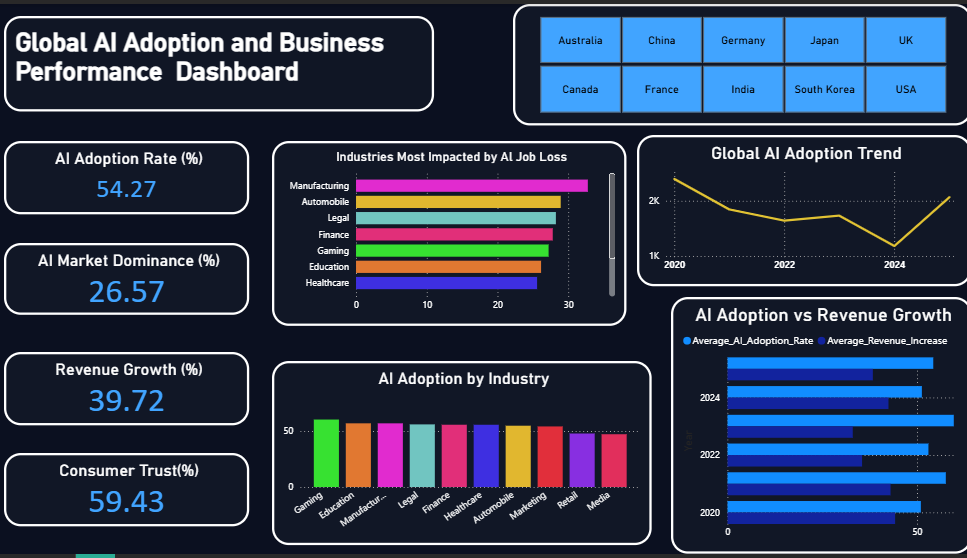

This screenshot's page, from the dashboard's own definition file:
{"tool":"powerbi","page":{"name":"Page 1","canvas":[1280,720],"ordinal":0},"visuals":[{"type":"card","title":" AI Adoption Rate (%)","fields":{"Values":["Meaures.Average_AI_Adoption_Rate"]},"box":[13.4,179.7,320.8,95.7],"z":0},{"type":"card","title":" Revenue Growth (%)","fields":{"Values":["Meaures.Average_Revenue_Increase"]},"box":[13.4,455.2,320.8,95.7],"z":1000},{"type":"card","title":"Consumer Trust(%)","fields":{"Values":["Meaures.Average_Consumer_Trust"]},"box":[13.4,587.9,320.8,95.7],"z":2000},{"type":"card","title":"AI Market  Dominance (%)","fields":{"Values":["Meaures.Average_market_Share"]},"box":[13.4,312.4,320.8,94.1],"z":3000},{"type":"lineChart","title":"Global AI Adoption Trend","fields":{"Category":["AI_Facts.Year"],"Y":["Sum(AI_Facts.AI_Adoption_Rate)"]},"box":[842,171.9,437.9,198.4],"z":4000},{"type":"columnChart","title":"AI Adoption by Industry","fields":{"Y":["Meaures.Average_AI_Adoption_Rate"],"Category":["Dim_Industry.Industry"]},"box":[364.4,467.3,496.7,241],"z":5000},{"type":"clusteredBarChart","title":"AI Adoption vs Revenue Growth","fields":{"Category":["AI_Facts.Year","Dim_Country.Country"],"Y":["Meaures.Average_AI_Adoption_Rate","Meaures.Average_Revenue_Increase"]},"box":[886,383.5,393.8,336.5],"z":6000},{"type":"slicer","fields":{"Values":["Dim_Country.Country"]},"box":[678.9,0,601,158.7],"z":7000},{"type":"clusteredBarChart","title":"Industries Most Impacted by Al Job Loss","fields":{"Category":["Dim_Industry.Industry"],"Y":["Table.Average Job Loss"]},"box":[364.4,179.3,464.3,242.4],"z":8000},{"type":"textbox","box":[13.2,16.2,562.8,124.9],"z":9000}]}

Visuals, with their boxes in screenshot pixels (x1, y1, x2, y2), scaled from the page's 1280x720 canvas onto the 967x558 screenshot:
" AI Adoption Rate (%)" card: detection(10, 139, 252, 213)
" Revenue Growth (%)" card: detection(10, 353, 252, 427)
"Consumer Trust(%)" card: detection(10, 456, 252, 530)
"AI Market  Dominance (%)" card: detection(10, 242, 252, 315)
"Global AI Adoption Trend" lineChart: detection(636, 133, 966, 287)
"AI Adoption by Industry" columnChart: detection(275, 362, 651, 549)
"AI Adoption vs Revenue Growth" clusteredBarChart: detection(669, 297, 966, 557)
slicer - Dim_Country.Country: detection(513, 0, 966, 123)
"Industries Most Impacted by Al Job Loss" clusteredBarChart: detection(275, 139, 626, 327)
textbox: detection(10, 13, 435, 109)
